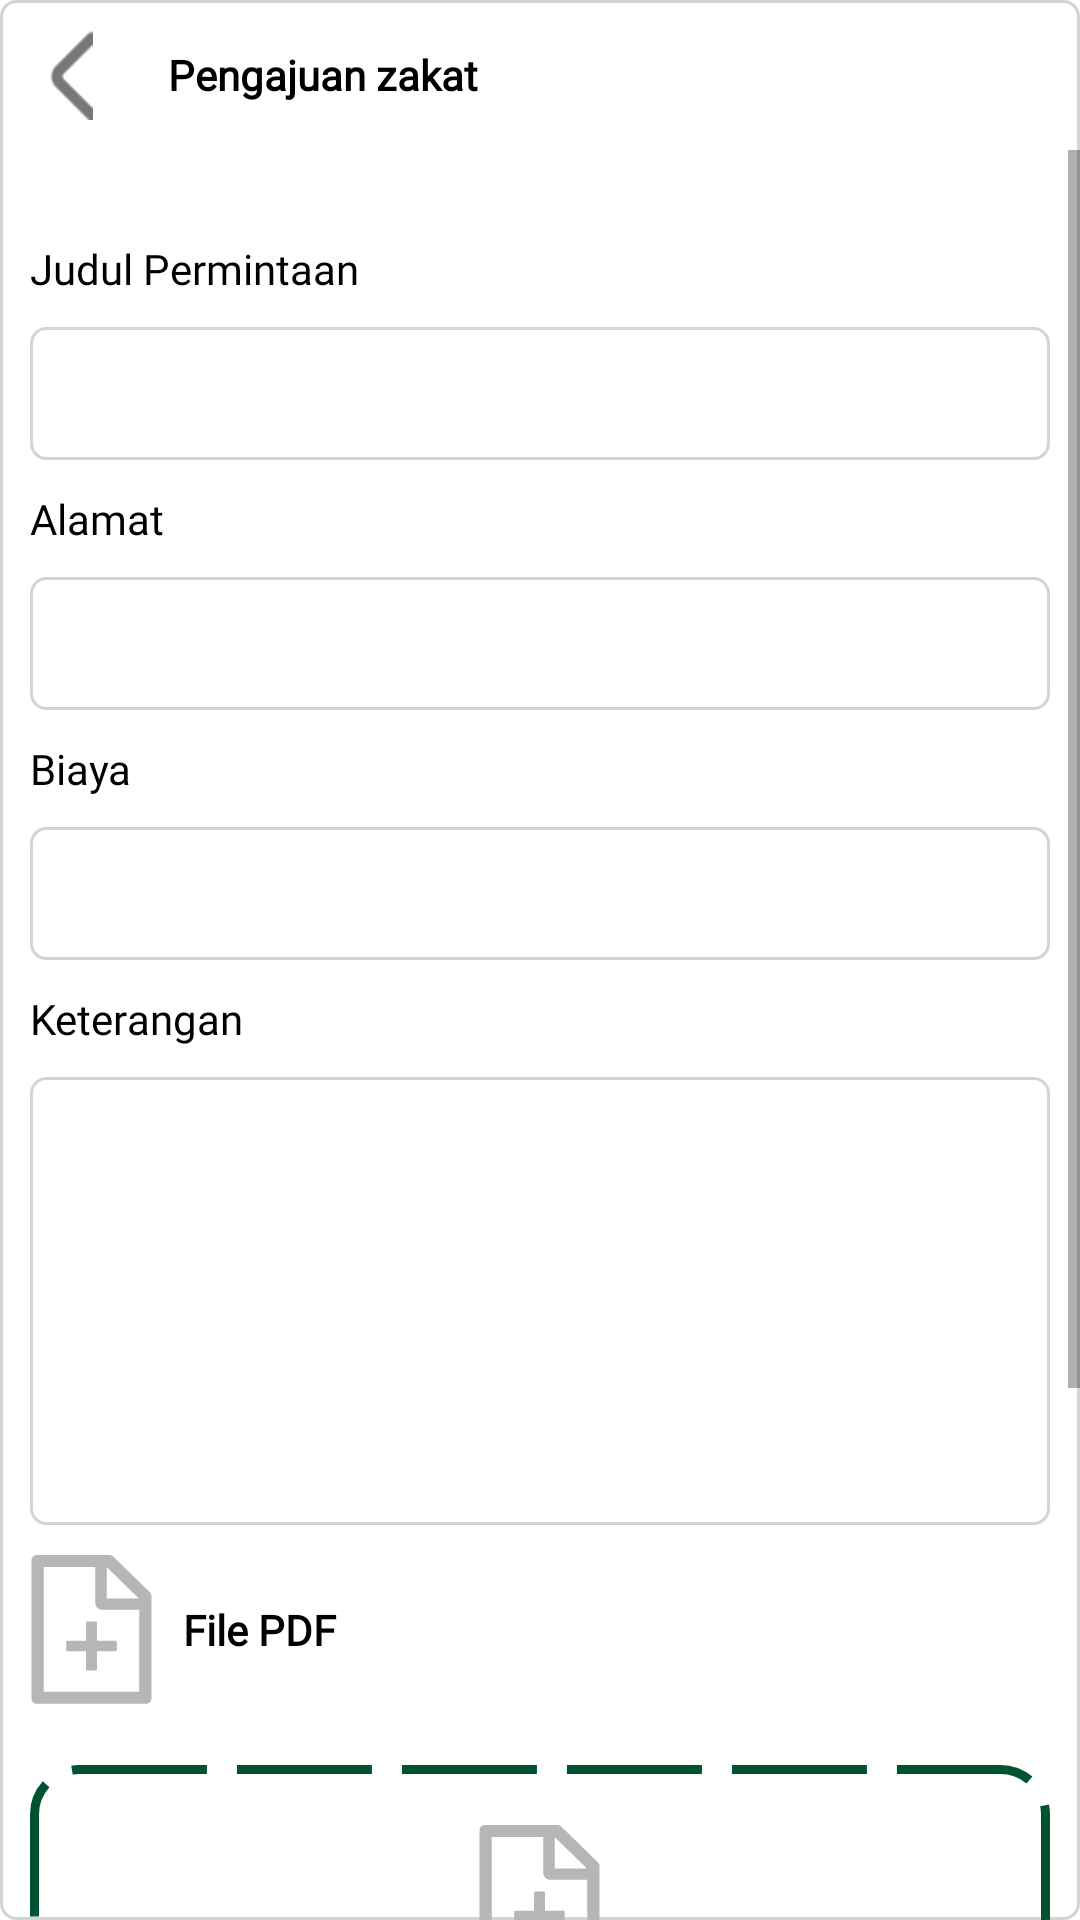

Locate icon controls on the screen. Image size 1080×1920, boxes as [x1, y1, x2, y2].
back: [50, 31, 93, 120]
